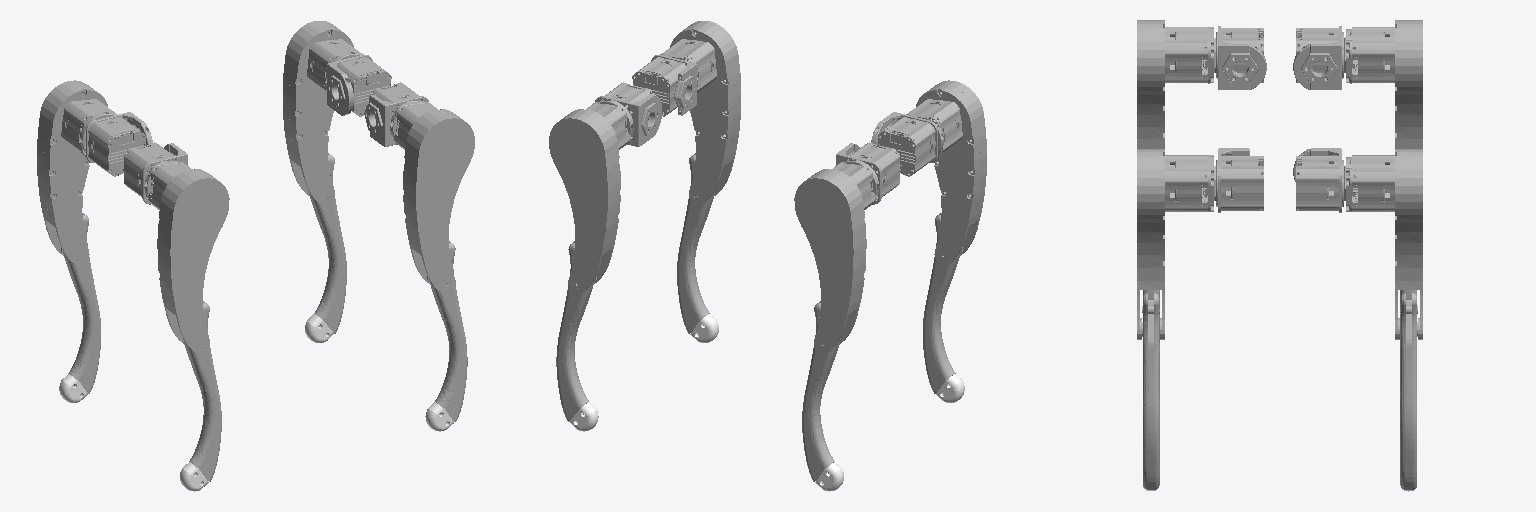
robot.urdf — HTDW_4438:
<?xml version="1.0" encoding="utf-8"?>
<!-- This URDF was automatically created by SolidWorks to URDF Exporter! Originally created by Stephen Brawner (brawner@gmail.com) 
     Commit Version: 1.6.0-4-g7f85cfe  Build Version: 1.6.7995.38578
     For more information, please see http://wiki.ros.org/sw_urdf_exporter -->
<robot
  name="HTDW_4438">
  <link
    name="base_link">
    <inertial>
      <origin
        xyz="0.00530896551307613 -0.00488146257129767 -0.00108926209888665"
        rpy="0 0 0" />
      <mass
        value="1.43623232112764" />
      <inertia
        ixx="0.00250133385652122"
        ixy="6.39361065374953E-07"
        ixz="-1.0452226731273E-05"
        iyy="0.00138602302847275"
        iyz="3.25031693171408E-06"
        izz="0.00209109142943327" />
    </inertial>
    <visual>
      <origin
        xyz="0 0 0"
        rpy="0 0 0" />
      <geometry>
        <mesh
          filename="package://HTDW_4438/meshes/base_link.STL" />
      </geometry>
      <material
        name="">
        <color
          rgba="0.752941176470588 0.752941176470588 0.752941176470588 1" />
      </material>
    </visual>
    <collision>
      <origin
        xyz="0 0 0"
        rpy="0 0 0" />
      <geometry>
        <mesh
          filename="package://HTDW_4438/meshes/base_link.STL" />
      </geometry>
    </collision>
  </link>
  <link
    name="FL_hip">
    <inertial>
      <origin
        xyz="-0.011175962901853 0.00214843118796925 -6.7372976802612E-05"
        rpy="0 0 0" />
      <mass
        value="0.0627632437664345" />
      <inertia
        ixx="1.3803393905315E-05"
        ixy="6.66942635042799E-07"
        ixz="-7.58770616204294E-08"
        iyy="1.96862600319711E-05"
        iyz="-5.78497161163577E-10"
        izz="1.17112014993658E-05" />
    </inertial>
    <visual>
      <origin
        xyz="0 0 0"
        rpy="0 0 0" />
      <geometry>
        <mesh
          filename="package://HTDW_4438/meshes/FL_hip.STL" />
      </geometry>
      <material
        name="">
        <color
          rgba="0.752941176470588 0.752941176470588 0.752941176470588 1" />
      </material>
    </visual>
    <collision>
      <origin
        xyz="0 0 0"
        rpy="0 0 0" />
      <geometry>
        <mesh
          filename="package://HTDW_4438/meshes/FL_hip.STL" />
      </geometry>
    </collision>
  </link>
  <joint
    name="FL_hip_joint"
    type="revolute">
    <origin
      xyz="0.14165 0.037 0"
      rpy="0 0 0" />
    <parent
      link="base_link" />
    <child
      link="FL_hip" />
    <axis
      xyz="1 0 0" />
    <limit
      lower="0"
      upper="0"
      effort="0"
      velocity="0" />
  </joint>
  <link
    name="FL_thigh">
    <inertial>
      <origin
        xyz="-0.0052176010483464 -0.00884351155354048 -0.0377205675797213"
        rpy="0 0 0" />
      <mass
        value="0.264760738721982" />
      <inertia
        ixx="0.000419195858566499"
        ixy="2.03738231885919E-07"
        ixz="3.3281278112596E-05"
        iyy="0.000482532194951317"
        iyz="1.4016386593396E-06"
        izz="7.04214920355385E-05" />
    </inertial>
    <visual>
      <origin
        xyz="0 0 0"
        rpy="0 0 0" />
      <geometry>
        <mesh
          filename="package://HTDW_4438/meshes/FL_thigh.STL" />
      </geometry>
      <material
        name="">
        <color
          rgba="0.752941176470588 0.752941176470588 0.752941176470588 1" />
      </material>
    </visual>
    <collision>
      <origin
        xyz="0 0 0"
        rpy="0 0 0" />
      <geometry>
        <mesh
          filename="package://HTDW_4438/meshes/FL_thigh.STL" />
      </geometry>
    </collision>
  </link>
  <joint
    name="FL_thigh_joint"
    type="revolute">
    <origin
      xyz="0 0.0834 0"
      rpy="0 0 0" />
    <parent
      link="FL_hip" />
    <child
      link="FL_thigh" />
    <axis
      xyz="0 1 0" />
    <limit
      lower="0"
      upper="0"
      effort="0"
      velocity="0" />
  </joint>
  <link
    name="FL_calf">
    <inertial>
      <origin
        xyz="0.0102816704612563 1.62244585395765E-06 -0.0628030759324844"
        rpy="0 0 0" />
      <mass
        value="0.153268276445712" />
      <inertia
        ixx="0.000477376654736183"
        ixy="-3.21834592213819E-09"
        ixz="-3.36524070741435E-05"
        iyy="0.000486852091359258"
        iyz="1.61974553789063E-08"
        izz="1.52089082122725E-05" />
    </inertial>
    <visual>
      <origin
        xyz="0 0 0"
        rpy="0 0 0" />
      <geometry>
        <mesh
          filename="package://HTDW_4438/meshes/FL_calf.STL" />
      </geometry>
      <material
        name="">
        <color
          rgba="0.752941176470588 0.752941176470588 0.752941176470588 1" />
      </material>
    </visual>
    <collision>
      <origin
        xyz="0 0 0"
        rpy="0 0 0" />
      <geometry>
        <mesh
          filename="package://HTDW_4438/meshes/FL_calf.STL" />
      </geometry>
    </collision>
  </link>
  <joint
    name="FL_calf_joint"
    type="revolute">
    <origin
      xyz="0 0 -0.15"
      rpy="0 0 0" />
    <parent
      link="FL_thigh" />
    <child
      link="FL_calf" />
    <axis
      xyz="0 1 0" />
    <limit
      lower="0"
      upper="0"
      effort="0"
      velocity="0" />
  </joint>
  <link
    name="FL_foot">
    <inertial>
      <origin
        xyz="-0.0039627037166873 -1.23541049612541E-09 -0.00314460024957436"
        rpy="0 0 0" />
      <mass
        value="0.0049215011738973" />
      <inertia
        ixx="3.63899112539145E-07"
        ixy="-3.6349439944636E-14"
        ixz="-7.35255072020136E-08"
        iyy="4.62050344128477E-07"
        iyz="6.12968834920132E-16"
        izz="3.29588352929664E-07" />
    </inertial>
    <visual>
      <origin
        xyz="0 0 0"
        rpy="0 0 0" />
      <geometry>
        <mesh
          filename="package://HTDW_4438/meshes/FL_foot.STL" />
      </geometry>
      <material
        name="">
        <color
          rgba="1 1 1 1" />
      </material>
    </visual>
    <collision>
      <origin
        xyz="0 0 0"
        rpy="0 0 0" />
      <geometry>
        <mesh
          filename="package://HTDW_4438/meshes/FL_foot.STL" />
      </geometry>
    </collision>
  </link>
  <joint
    name="FL_foot_joint"
    type="fixed">
    <origin
      xyz="0 0 -0.15"
      rpy="0 0 0" />
    <parent
      link="FL_calf" />
    <child
      link="FL_foot" />
    <axis
      xyz="0 0 0" />
  </joint>
  <link
    name="FR_hip">
    <inertial>
      <origin
        xyz="-0.0111759629023594 -0.00214843119113931 6.73729740086932E-05"
        rpy="0 0 0" />
      <mass
        value="0.0627632437545266" />
      <inertia
        ixx="1.38033939010895E-05"
        ixy="-6.66942633910464E-07"
        ixz="7.58770631361915E-08"
        iyy="1.9686260028362E-05"
        iyz="-5.78499148925351E-10"
        izz="1.17112014969974E-05" />
    </inertial>
    <visual>
      <origin
        xyz="0 0 0"
        rpy="0 0 0" />
      <geometry>
        <mesh
          filename="package://HTDW_4438/meshes/FR_hip.STL" />
      </geometry>
      <material
        name="">
        <color
          rgba="0.752941176470588 0.752941176470588 0.752941176470588 1" />
      </material>
    </visual>
    <collision>
      <origin
        xyz="0 0 0"
        rpy="0 0 0" />
      <geometry>
        <mesh
          filename="package://HTDW_4438/meshes/FR_hip.STL" />
      </geometry>
    </collision>
  </link>
  <joint
    name="FR_hip_joint"
    type="revolute">
    <origin
      xyz="0.14165 -0.037 0"
      rpy="0 0 0" />
    <parent
      link="base_link" />
    <child
      link="FR_hip" />
    <axis
      xyz="1 0 0" />
    <limit
      lower="0"
      upper="0"
      effort="0"
      velocity="0" />
  </joint>
  <link
    name="FR_thigh">
    <inertial>
      <origin
        xyz="-0.0054907712530915 0.00884349936829075 -0.0378283464563652"
        rpy="0 0 0" />
      <mass
        value="0.264761547925638" />
      <inertia
        ixx="0.000419698172836129"
        ixy="-1.23534365954168E-07"
        ixz="3.05313061101485E-05"
        iyy="0.000482533495029314"
        iyz="-1.39999132850162E-06"
        izz="6.99205189115532E-05" />
    </inertial>
    <visual>
      <origin
        xyz="0 0 0"
        rpy="0 0 0" />
      <geometry>
        <mesh
          filename="package://HTDW_4438/meshes/FR_thigh.STL" />
      </geometry>
      <material
        name="">
        <color
          rgba="0.752941176470588 0.752941176470588 0.752941176470588 1" />
      </material>
    </visual>
    <collision>
      <origin
        xyz="0 0 0"
        rpy="0 0 0" />
      <geometry>
        <mesh
          filename="package://HTDW_4438/meshes/FR_thigh.STL" />
      </geometry>
    </collision>
  </link>
  <joint
    name="FR_thigh_joint"
    type="revolute">
    <origin
      xyz="0 -0.0834 0"
      rpy="0 0 0" />
    <parent
      link="FR_hip" />
    <child
      link="FR_thigh" />
    <axis
      xyz="0 1 0" />
    <limit
      lower="0"
      upper="0"
      effort="0"
      velocity="0" />
  </joint>
  <link
    name="FR_calf">
    <inertial>
      <origin
        xyz="0.0102816722309358 1.62243827958597E-06 -0.0628030804631996"
        rpy="0 0 0" />
      <mass
        value="0.153268271042767" />
      <inertia
        ixx="0.00047737663251671"
        ixy="-3.21812814736719E-09"
        ixz="-3.36524026483139E-05"
        iyy="0.000486852067849436"
        iyz="1.6196793124516E-08"
        izz="1.52089068420327E-05" />
    </inertial>
    <visual>
      <origin
        xyz="0 0 0"
        rpy="0 0 0" />
      <geometry>
        <mesh
          filename="package://HTDW_4438/meshes/FR_calf.STL" />
      </geometry>
      <material
        name="">
        <color
          rgba="0.752941176470588 0.752941176470588 0.752941176470588 1" />
      </material>
    </visual>
    <collision>
      <origin
        xyz="0 0 0"
        rpy="0 0 0" />
      <geometry>
        <mesh
          filename="package://HTDW_4438/meshes/FR_calf.STL" />
      </geometry>
    </collision>
  </link>
  <joint
    name="FR_calf_joint"
    type="revolute">
    <origin
      xyz="0 0 -0.15"
      rpy="0 0 0" />
    <parent
      link="FR_thigh" />
    <child
      link="FR_calf" />
    <axis
      xyz="0 1 0" />
    <limit
      lower="0"
      upper="0"
      effort="0"
      velocity="0" />
  </joint>
  <link
    name="FR_foot">
    <inertial>
      <origin
        xyz="-0.00396270246877165 -1.15568347947015E-09 -0.00314460329835686"
        rpy="0 0 0" />
      <mass
        value="0.0049215011738973" />
      <inertia
        ixx="3.63899112539147E-07"
        ixy="-3.63494401529943E-14"
        ixz="-7.35255072020139E-08"
        iyy="4.62050344128478E-07"
        iyz="6.12969098435677E-16"
        izz="3.29588352929664E-07" />
    </inertial>
    <visual>
      <origin
        xyz="0 0 0"
        rpy="0 0 0" />
      <geometry>
        <mesh
          filename="package://HTDW_4438/meshes/FR_foot.STL" />
      </geometry>
      <material
        name="">
        <color
          rgba="1 1 1 1" />
      </material>
    </visual>
    <collision>
      <origin
        xyz="0 0 0"
        rpy="0 0 0" />
      <geometry>
        <mesh
          filename="package://HTDW_4438/meshes/FR_foot.STL" />
      </geometry>
    </collision>
  </link>
  <joint
    name="FR_foot"
    type="fixed">
    <origin
      xyz="0 0 -0.15"
      rpy="0 0 0" />
    <parent
      link="FR_calf" />
    <child
      link="FR_foot" />
    <axis
      xyz="0 0 0" />
  </joint>
  <link
    name="RL_hip">
    <inertial>
      <origin
        xyz="0.01117596290331 0.00214843118771957 6.73729766615413E-05"
        rpy="0 0 0" />
      <mass
        value="0.0627632437669057" />
      <inertia
        ixx="1.38033939057253E-05"
        ixy="-6.66942637432805E-07"
        ixz="-7.58770648949209E-08"
        iyy="1.96862600319623E-05"
        iyz="5.78497392462924E-10"
        izz="1.17112014994272E-05" />
    </inertial>
    <visual>
      <origin
        xyz="0 0 0"
        rpy="0 0 0" />
      <geometry>
        <mesh
          filename="package://HTDW_4438/meshes/RL_hip.STL" />
      </geometry>
      <material
        name="">
        <color
          rgba="0.752941176470588 0.752941176470588 0.752941176470588 1" />
      </material>
    </visual>
    <collision>
      <origin
        xyz="0 0 0"
        rpy="0 0 0" />
      <geometry>
        <mesh
          filename="package://HTDW_4438/meshes/RL_hip.STL" />
      </geometry>
    </collision>
  </link>
  <joint
    name="RL_hip_joint"
    type="revolute">
    <origin
      xyz="-0.14165 0.037 0"
      rpy="0 0 0" />
    <parent
      link="base_link" />
    <child
      link="RL_hip" />
    <axis
      xyz="1 0 0" />
    <limit
      lower="0"
      upper="0"
      effort="0"
      velocity="0" />
  </joint>
  <link
    name="RL_thigh">
    <inertial>
      <origin
        xyz="-0.00547943403871168 -0.00884351240774997 -0.0377313917585379"
        rpy="0 0 0" />
      <mass
        value="0.264760738558349" />
      <inertia
        ixx="0.00041915228548236"
        ixy="1.23634804848235E-07"
        ixz="3.27510424560042E-05"
        iyy="0.000482532194887537"
        iyz="1.39845403438415E-06"
        izz="7.04650650580959E-05" />
    </inertial>
    <visual>
      <origin
        xyz="0 0 0"
        rpy="0 0 0" />
      <geometry>
        <mesh
          filename="package://HTDW_4438/meshes/RL_thigh.STL" />
      </geometry>
      <material
        name="">
        <color
          rgba="0.752941176470588 0.752941176470588 0.752941176470588 1" />
      </material>
    </visual>
    <collision>
      <origin
        xyz="0 0 0"
        rpy="0 0 0" />
      <geometry>
        <mesh
          filename="package://HTDW_4438/meshes/RL_thigh.STL" />
      </geometry>
    </collision>
  </link>
  <joint
    name="RL_thigh_joint"
    type="revolute">
    <origin
      xyz="0 0.0834 0"
      rpy="0 0 0" />
    <parent
      link="RL_hip" />
    <child
      link="RL_thigh" />
    <axis
      xyz="0 1 0" />
    <limit
      lower="0"
      upper="0"
      effort="0"
      velocity="0" />
  </joint>
  <link
    name="RL_calf">
    <inertial>
      <origin
        xyz="0.0102816705479436 1.62242974796611E-06 -0.0628030755658535"
        rpy="0 0 0" />
      <mass
        value="0.153268275649899" />
      <inertia
        ixx="0.000477376652292343"
        ixy="-3.21831137380454E-09"
        ixz="-3.36524076725698E-05"
        iyy="0.000486852088816872"
        iyz="1.6197525589879E-08"
        izz="1.52089081255875E-05" />
    </inertial>
    <visual>
      <origin
        xyz="0 0 0"
        rpy="0 0 0" />
      <geometry>
        <mesh
          filename="package://HTDW_4438/meshes/RL_calf.STL" />
      </geometry>
      <material
        name="">
        <color
          rgba="0.752941176470588 0.752941176470588 0.752941176470588 1" />
      </material>
    </visual>
    <collision>
      <origin
        xyz="0 0 0"
        rpy="0 0 0" />
      <geometry>
        <mesh
          filename="package://HTDW_4438/meshes/RL_calf.STL" />
      </geometry>
    </collision>
  </link>
  <joint
    name="RL_calf_joint"
    type="revolute">
    <origin
      xyz="0 0 -0.15"
      rpy="0 0 0" />
    <parent
      link="RL_thigh" />
    <child
      link="RL_calf" />
    <axis
      xyz="0 1 0" />
    <limit
      lower="0"
      upper="0"
      effort="0"
      velocity="0" />
  </joint>
  <link
    name="RL_foot">
    <inertial>
      <origin
        xyz="-0.00396270368124382 -1.23541084307011E-09 -0.00314460018815149"
        rpy="0 0 0" />
      <mass
        value="0.00492150117389732" />
      <inertia
        ixx="3.63899112539148E-07"
        ixy="-3.63494399167182E-14"
        ixz="-7.35255072020145E-08"
        iyy="4.6205034412848E-07"
        iyz="6.12968249634357E-16"
        izz="3.29588352929665E-07" />
    </inertial>
    <visual>
      <origin
        xyz="0 0 0"
        rpy="0 0 0" />
      <geometry>
        <mesh
          filename="package://HTDW_4438/meshes/RL_foot.STL" />
      </geometry>
      <material
        name="">
        <color
          rgba="1 1 1 1" />
      </material>
    </visual>
    <collision>
      <origin
        xyz="0 0 0"
        rpy="0 0 0" />
      <geometry>
        <mesh
          filename="package://HTDW_4438/meshes/RL_foot.STL" />
      </geometry>
    </collision>
  </link>
  <joint
    name="RL_foot_joint"
    type="fixed">
    <origin
      xyz="0 0 -0.15"
      rpy="0 0 0" />
    <parent
      link="RL_calf" />
    <child
      link="RL_foot" />
    <axis
      xyz="0 0 0" />
  </joint>
  <link
    name="RR_hip">
    <inertial>
      <origin
        xyz="0.0111759629018533 -0.00214843118796952 -6.73729768046188E-05"
        rpy="0 0 0" />
      <mass
        value="0.0627632437664321" />
      <inertia
        ixx="1.38033939053113E-05"
        ixy="6.66942635042662E-07"
        ixz="7.58770616206409E-08"
        iyy="1.96862600319675E-05"
        iyz="5.78497160275576E-10"
        izz="1.17112014993653E-05" />
    </inertial>
    <visual>
      <origin
        xyz="0 0 0"
        rpy="0 0 0" />
      <geometry>
        <mesh
          filename="package://HTDW_4438/meshes/RR_hip.STL" />
      </geometry>
      <material
        name="">
        <color
          rgba="0.752941176470588 0.752941176470588 0.752941176470588 1" />
      </material>
    </visual>
    <collision>
      <origin
        xyz="0 0 0"
        rpy="0 0 0" />
      <geometry>
        <mesh
          filename="package://HTDW_4438/meshes/RR_hip.STL" />
      </geometry>
    </collision>
  </link>
  <joint
    name="RR_hip_joint"
    type="revolute">
    <origin
      xyz="-0.14165 -0.037 0"
      rpy="0 0 0" />
    <parent
      link="base_link" />
    <child
      link="RR_hip" />
    <axis
      xyz="1 0 0" />
    <limit
      lower="0"
      upper="0"
      effort="0"
      velocity="0" />
  </joint>
  <link
    name="RR_thigh">
    <inertial>
      <origin
        xyz="-0.00549077204438914 0.00884349936663885 -0.0378283464100808"
        rpy="0 0 0" />
      <mass
        value="0.264761547913784" />
      <inertia
        ixx="0.000419698172834109"
        ixy="-1.2353436385508E-07"
        ixz="3.05313061088882E-05"
        iyy="0.000482533495025728"
        iyz="-1.39999132760904E-06"
        izz="6.99205189070208E-05" />
    </inertial>
    <visual>
      <origin
        xyz="0 0 0"
        rpy="0 0 0" />
      <geometry>
        <mesh
          filename="package://HTDW_4438/meshes/RR_thigh.STL" />
      </geometry>
      <material
        name="">
        <color
          rgba="0.752941176470588 0.752941176470588 0.752941176470588 1" />
      </material>
    </visual>
    <collision>
      <origin
        xyz="0 0 0"
        rpy="0 0 0" />
      <geometry>
        <mesh
          filename="package://HTDW_4438/meshes/RR_thigh.STL" />
      </geometry>
    </collision>
  </link>
  <joint
    name="RR_thigh_joint"
    type="revolute">
    <origin
      xyz="0 -0.0834 0"
      rpy="0 0 0" />
    <parent
      link="RR_hip" />
    <child
      link="RR_thigh" />
    <axis
      xyz="0 1 0" />
    <limit
      lower="0"
      upper="0"
      effort="0"
      velocity="0" />
  </joint>
  <link
    name="RR_calf">
    <inertial>
      <origin
        xyz="0.0102816705463298 1.62243321660815E-06 -0.0628030755968961"
        rpy="0 0 0" />
      <mass
        value="0.153268275552393" />
      <inertia
        ixx="0.000477376652020847"
        ixy="-3.21830919936561E-09"
        ixz="-3.36524076794089E-05"
        iyy="0.000486852088548227"
        iyz="1.6197553937334E-08"
        izz="1.52089081224516E-05" />
    </inertial>
    <visual>
      <origin
        xyz="0 0 0"
        rpy="0 0 0" />
      <geometry>
        <mesh
          filename="package://HTDW_4438/meshes/RR_calf.STL" />
      </geometry>
      <material
        name="">
        <color
          rgba="0.752941176470588 0.752941176470588 0.752941176470588 1" />
      </material>
    </visual>
    <collision>
      <origin
        xyz="0 0 0"
        rpy="0 0 0" />
      <geometry>
        <mesh
          filename="package://HTDW_4438/meshes/RR_calf.STL" />
      </geometry>
    </collision>
  </link>
  <joint
    name="RR_calf"
    type="revolute">
    <origin
      xyz="0 0 -0.15"
      rpy="0 0 0" />
    <parent
      link="RR_thigh" />
    <child
      link="RR_calf" />
    <axis
      xyz="0 1 0" />
    <limit
      lower="0"
      upper="0"
      effort="0"
      velocity="0" />
  </joint>
  <link
    name="RR_foot">
    <inertial>
      <origin
        xyz="-0.0039627036812471 -1.23541075980338E-09 -0.00314460018815022"
        rpy="0 0 0" />
      <mass
        value="0.00492150117389729" />
      <inertia
        ixx="3.63899112539145E-07"
        ixy="-3.63494401050263E-14"
        ixz="-7.35255072020133E-08"
        iyy="4.62050344128476E-07"
        iyz="6.1296877466759E-16"
        izz="3.29588352929663E-07" />
    </inertial>
    <visual>
      <origin
        xyz="0 0 0"
        rpy="0 0 0" />
      <geometry>
        <mesh
          filename="package://HTDW_4438/meshes/RR_foot.STL" />
      </geometry>
      <material
        name="">
        <color
          rgba="1 1 1 1" />
      </material>
    </visual>
    <collision>
      <origin
        xyz="0 0 0"
        rpy="0 0 0" />
      <geometry>
        <mesh
          filename="package://HTDW_4438/meshes/RR_foot.STL" />
      </geometry>
    </collision>
  </link>
  <joint
    name="RR_foot_joint"
    type="fixed">
    <origin
      xyz="0 0 -0.15"
      rpy="0 0 0" />
    <parent
      link="RR_calf" />
    <child
      link="RR_foot" />
    <axis
      xyz="0 0 0" />
  </joint>
</robot>

--- What the picture shows (computed from the rendered views, not written in the file) ---
3 views of the same robot in one strip: view 1: azimuth 30°, elevation 25°; view 2: azimuth 150°, elevation 25°; view 3: azimuth 270°, elevation 25° (orthographic).
Model HTDW_4438 with 17 links and 16 joints (12 revolute, 4 fixed), rooted at base_link, posed every joint at zero.
Visible links, largest first — view 1: FR_thigh, RR_thigh, RL_thigh, FL_thigh, FL_hip, FR_calf, RR_calf, RL_hip, FL_calf, RL_calf, FR_hip, RR_hip (+4 smaller); view 2: FL_thigh, RL_thigh, RR_thigh, FR_thigh, RL_calf, RR_hip, FL_calf, FR_calf, RR_calf, FR_hip, FL_hip, RL_hip (+4 smaller); view 3: FR_thigh, FL_thigh, RR_thigh, RL_thigh, FL_calf, FR_calf, FL_hip, RL_hip, RR_hip, FR_hip.
Link boxes in pixels (box(x1,y1,x2,y2)): FR_thigh: box(390, 101, 474, 293); RR_thigh: box(144, 161, 229, 353); RL_thigh: box(37, 80, 117, 265); FL_thigh: box(283, 21, 363, 205); FL_hip: box(327, 55, 391, 116); FR_calf: box(428, 241, 467, 423); RR_calf: box(183, 301, 221, 483); RL_hip: box(86, 112, 152, 176); FL_calf: box(308, 153, 346, 334); RL_calf: box(62, 213, 100, 395); FR_hip: box(364, 82, 428, 146); RR_hip: box(123, 142, 187, 204); FL_thigh: box(549, 99, 633, 293); RL_thigh: box(794, 159, 879, 353); RR_thigh: box(906, 80, 986, 265); FR_thigh: box(660, 21, 740, 205); RL_calf: box(802, 301, 840, 483); RR_hip: box(871, 112, 937, 176); FL_calf: box(556, 241, 594, 423); FR_calf: box(677, 153, 715, 335); RR_calf: box(923, 213, 961, 395); FR_hip: box(632, 55, 696, 116); FL_hip: box(595, 82, 661, 146); RL_hip: box(836, 142, 900, 204); FR_thigh: box(1137, 149, 1215, 339); FL_thigh: box(1344, 149, 1422, 339); RR_thigh: box(1137, 20, 1215, 148); RL_thigh: box(1344, 20, 1422, 148); FL_calf: box(1400, 293, 1417, 489); FR_calf: box(1142, 293, 1159, 489); FL_hip: box(1293, 148, 1343, 212); RL_hip: box(1293, 26, 1343, 89); RR_hip: box(1216, 26, 1266, 89); FR_hip: box(1216, 148, 1263, 212).
Size in the robot's own frame: 0.3515 by 0.2668 by 0.3483 metres.
16 mesh visuals loaded from 17 distinct referenced files (16 binary STL); not drawn: 1 (reference not matched to a file when rendering).
